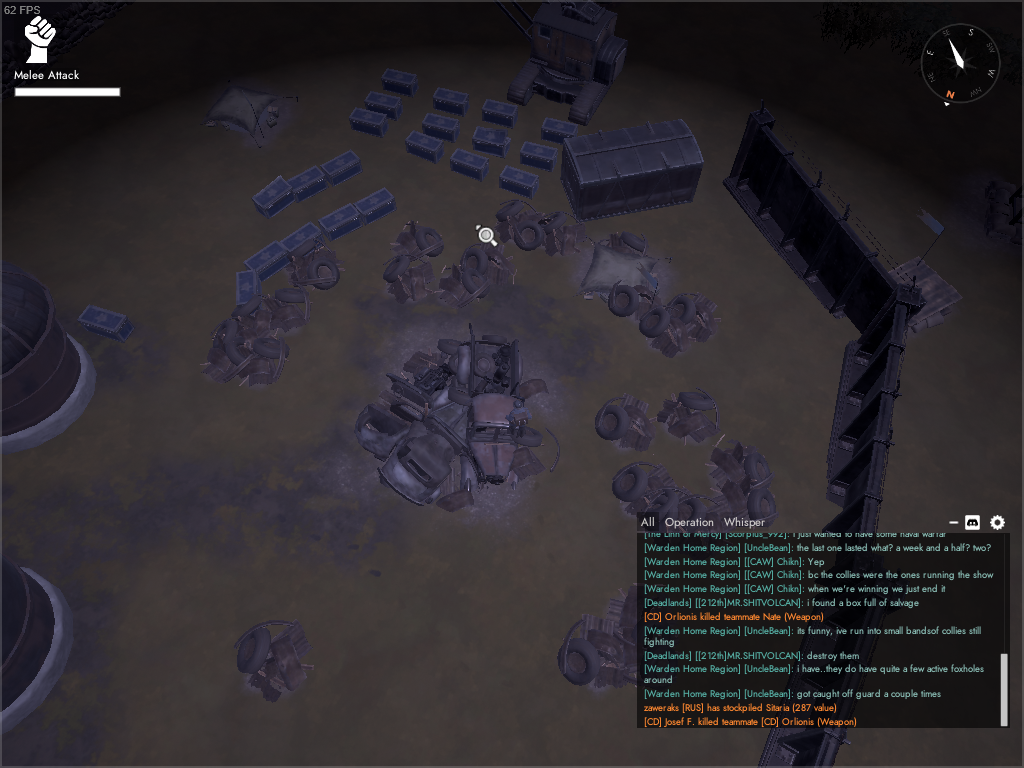container: (560, 113, 705, 226)
crane: (498, 1, 629, 125)
fortified_wall: (719, 98, 925, 341), (755, 567, 895, 768), (817, 283, 891, 580)
foxhole: (191, 72, 302, 154), (574, 241, 671, 317)
pillbox: (866, 209, 961, 340)
player: (505, 398, 532, 441)
scrap: (556, 577, 678, 698), (197, 304, 294, 391), (231, 615, 318, 706), (645, 486, 733, 572), (430, 237, 520, 315), (489, 194, 592, 261), (639, 289, 725, 360), (651, 383, 724, 452), (592, 389, 659, 456), (609, 460, 686, 515), (705, 441, 775, 500), (283, 244, 347, 298), (253, 283, 313, 338), (380, 251, 439, 305), (386, 217, 445, 270), (594, 228, 656, 277), (607, 271, 666, 322)
scrapyard: (354, 322, 564, 517)
storage_box: (75, 302, 133, 345), (279, 220, 329, 266), (251, 175, 298, 223), (242, 238, 292, 282), (315, 203, 365, 243), (353, 185, 397, 229), (343, 102, 395, 139), (322, 146, 364, 189), (448, 146, 495, 184), (515, 139, 566, 174), (356, 88, 406, 123), (497, 163, 544, 200), (286, 165, 329, 205), (375, 63, 422, 98), (401, 129, 447, 164), (427, 83, 470, 118), (231, 265, 264, 309), (417, 110, 462, 142), (478, 94, 523, 126), (538, 114, 581, 147)
watchtower: (982, 176, 1024, 246)
